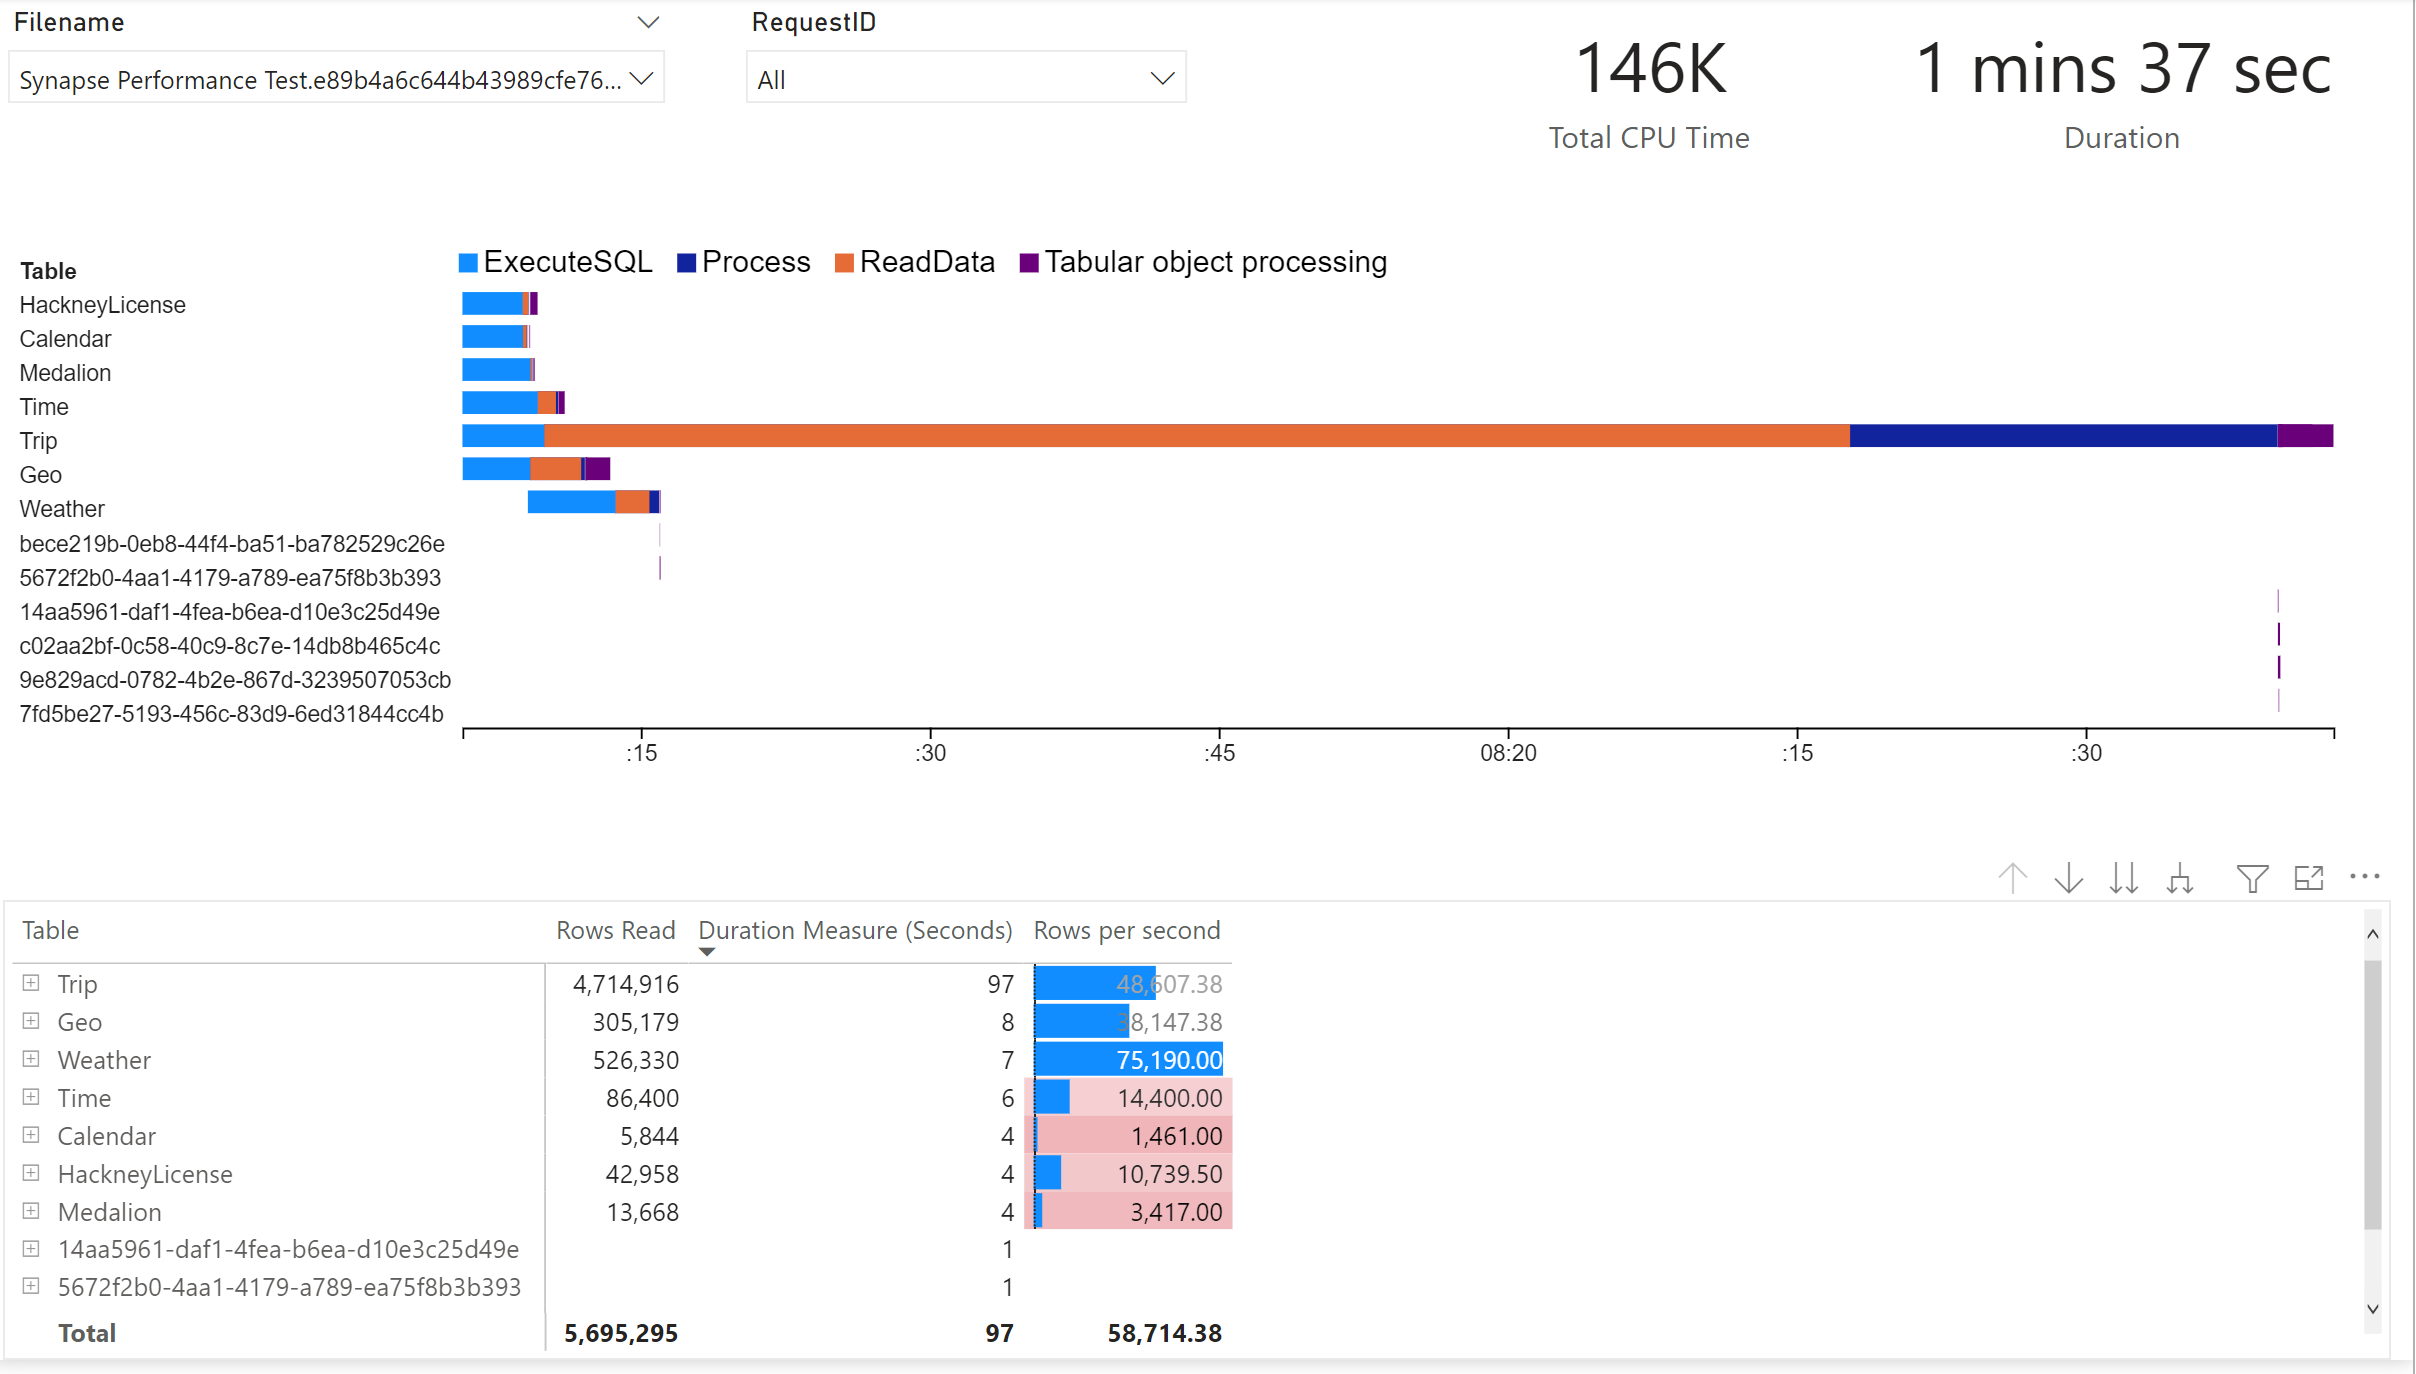

Layout of this report page (visuals, bound fields, positions):
{"tool":"powerbi","page":{"name":"Timeline","canvas":[1280,720],"ordinal":0},"visuals":[{"type":"cdTimelinesA399BDD5831D40CD8E83DCCD13A986BE","fields":{"category":["Event Subclasses.Sub Class"],"start":["Progress Report End.StartTime"],"end":["Progress Report End.End Time"],"entities":["Progress Report End.Table"],"tooltips":["Min(Progress Report End.StartTime)","Max(Progress Report End.End Time)","Progress Report End.Duration Measure (Seconds)","Event Subclasses.Sub Class"]},"box":[0,119.1,1280,342.9],"z":0},{"type":"slicer","title":"Select a Request ID","fields":{"Values":["Progress Report End.Filename"]},"box":[0,0,367.1,94.3],"z":1000},{"type":"card","fields":{"Values":["Progress Report End.Duration Measure"]},"box":[972.4,0,307.6,94.2],"z":2000},{"type":"pivotTable","fields":{"Rows":["Progress Report End.Table","Progress Report End.Object"],"Values":["Progress Report End.Rows Read","Progress Report End.Duration Measure (Seconds)","Progress Report End.Rows per second"]},"box":[7.2,477.1,1261,242.8],"z":3000},{"type":"card","fields":{"Values":["Sum(Progress Report End.CPUTime)"]},"box":[801,0,152.5,94.2],"z":4000},{"type":"slicer","title":"Select a Request ID","fields":{"Values":["Progress Report End.RequestID"]},"box":[390,0,252.9,94.3],"z":5000}]}

Visuals, with their boxes in screenshot pixels (x1, y1, x2, y2), scaled from the page's 1280x720 canvas onto the 2416x1374 screenshot:
cdTimelinesA399BDD5831D40CD8E83DCCD13A986BE - Event Subclasses.Sub Class x Progress Report End.StartTime: x1=0, y1=227, x2=2415, y2=882
"Select a Request ID" slicer: x1=0, y1=0, x2=693, y2=180
card - Progress Report End.Duration Measure: x1=1835, y1=0, x2=2415, y2=180
pivotTable - Progress Report End.Table x Progress Report End.Object: x1=14, y1=910, x2=2394, y2=1373
card - Sum(Progress Report End.CPUTime): x1=1512, y1=0, x2=1800, y2=180
"Select a Request ID" slicer: x1=736, y1=0, x2=1213, y2=180
